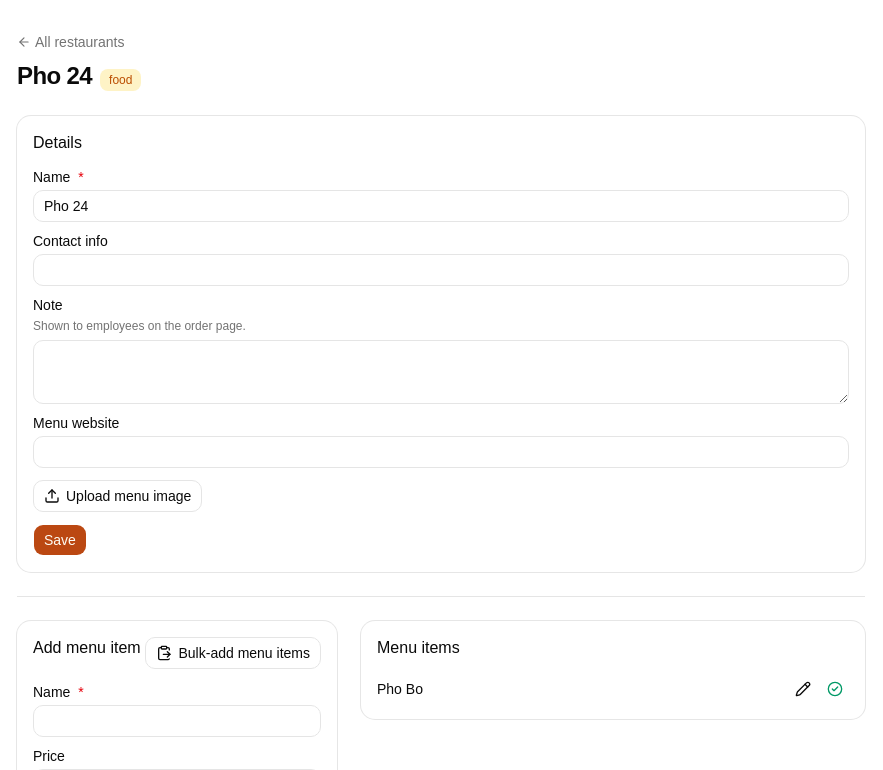
it: RestaurantDetail › toggles a menu item's active state
Check: the text "Pho Bo" is shown, box [377, 679, 423, 699]
Click the button named "Deactivate" at (835, 689), box [821, 675, 849, 703]
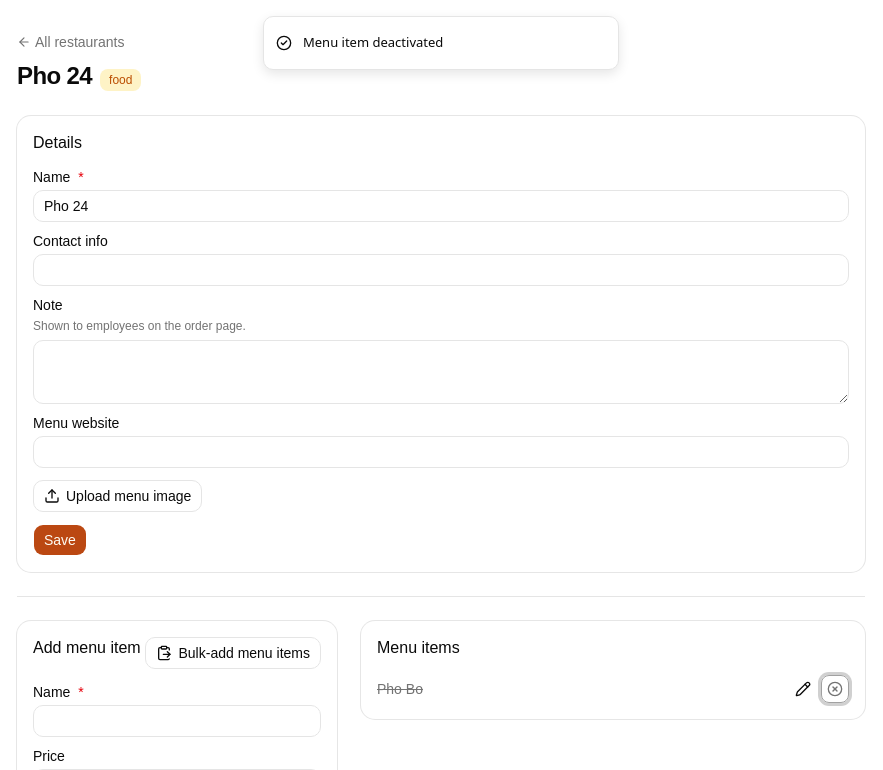
Check: the text "Menu item deactivated" is shown, box [303, 33, 443, 52]
Click the button named "Activate" at (835, 689), box [821, 675, 849, 703]
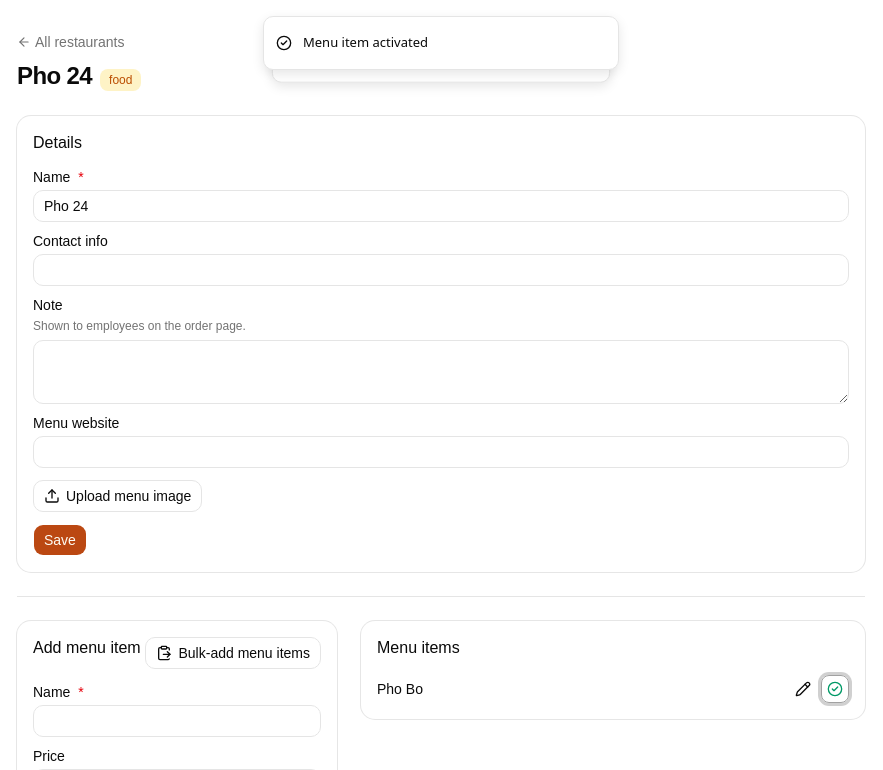
Check: the button named "Deactivate" is shown, box [821, 675, 849, 703]
Check: the text "Menu item activated" is shown, box [303, 33, 428, 52]
